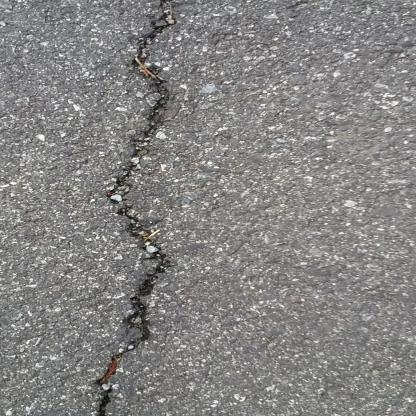Cracks: (59, 0, 227, 416)
